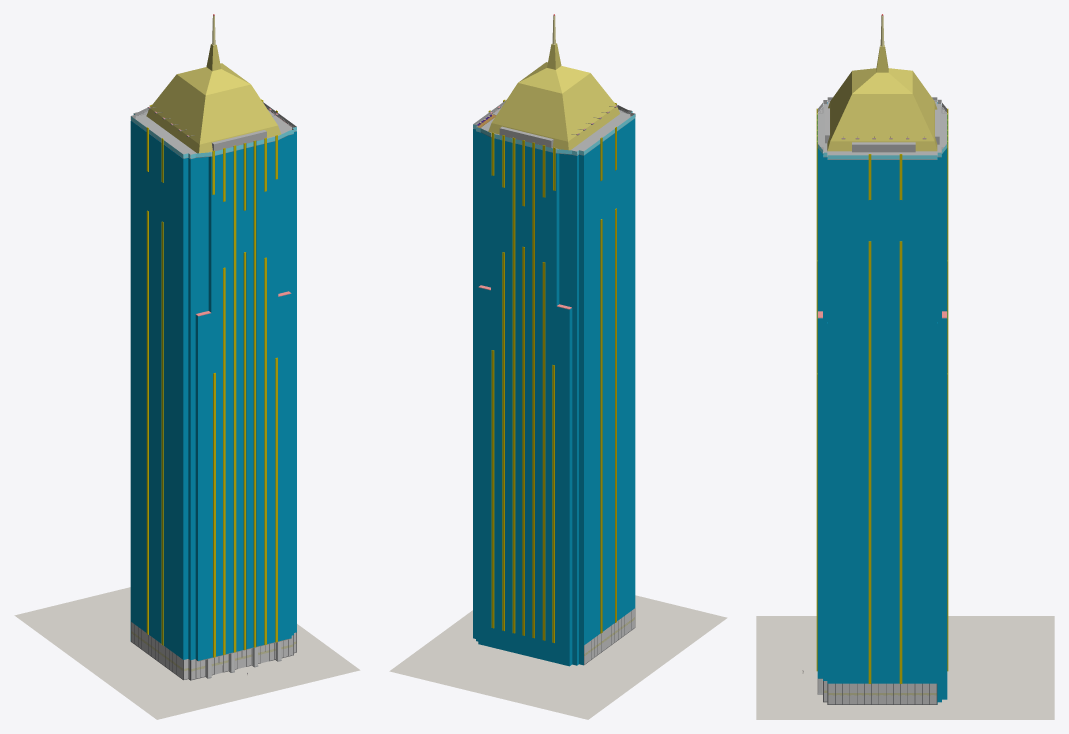
The model's file is grandhyatt.glb.
3 views of the same model, side by side, from view 1: azimuth 30°, elevation 25°; view 2: azimuth 150°, elevation 25°; view 3: azimuth 270°, elevation 25° (orthographic). The views are drawn at different scales.
Size of the model in its own units: 108 by 322 by 131.
